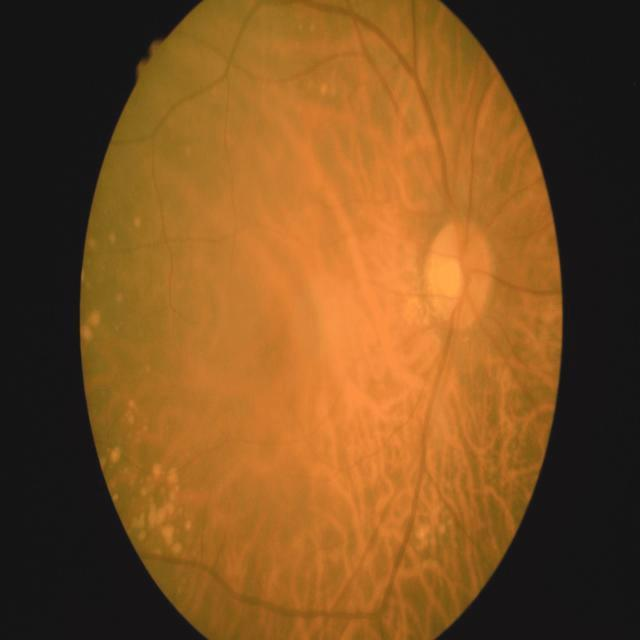cup: (440, 256, 469, 306)
disk: (424, 223, 494, 327)
